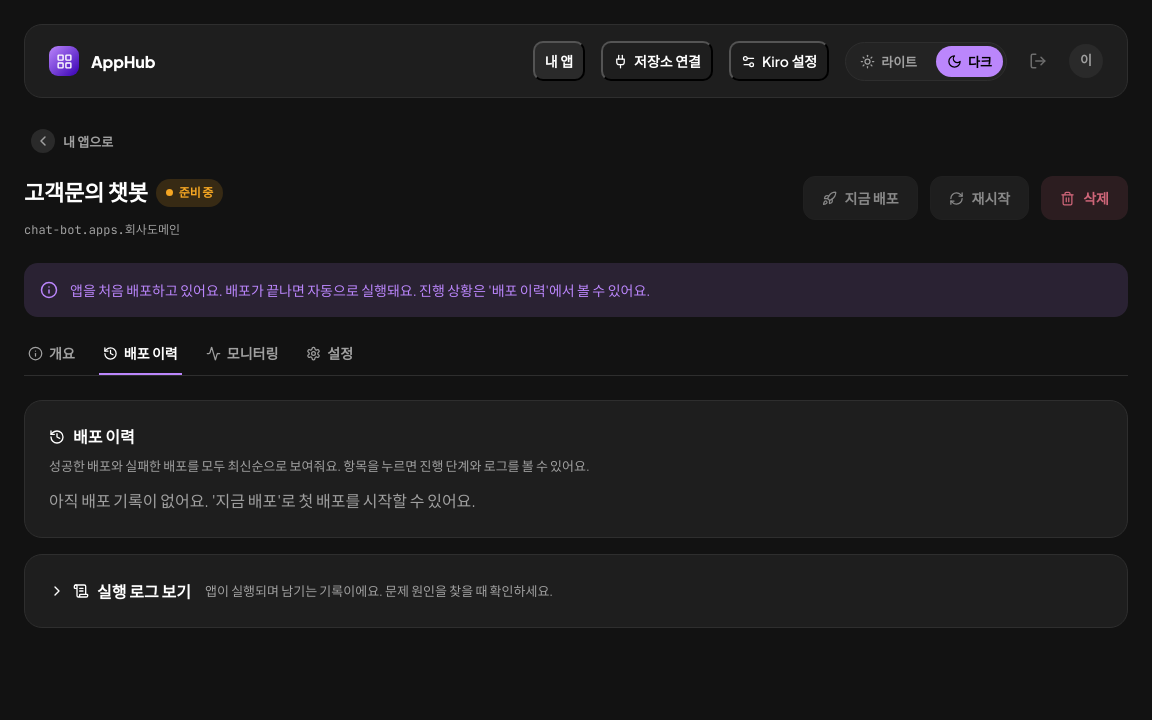
F2 — 앱 실행 로그 증분 새로고침 › 갱신 주기는 10초(5초 시점엔 요청 없음)
This screenshot has width=1152, height=720.
Step 1. Click the button "실행 로그 보기 앱이 실행되며 남기는 기록이에요. 문제 원인을 찾을 때 확인하세요." → [144, 591], box [49,579,1103,603]
Wait 10100 ms
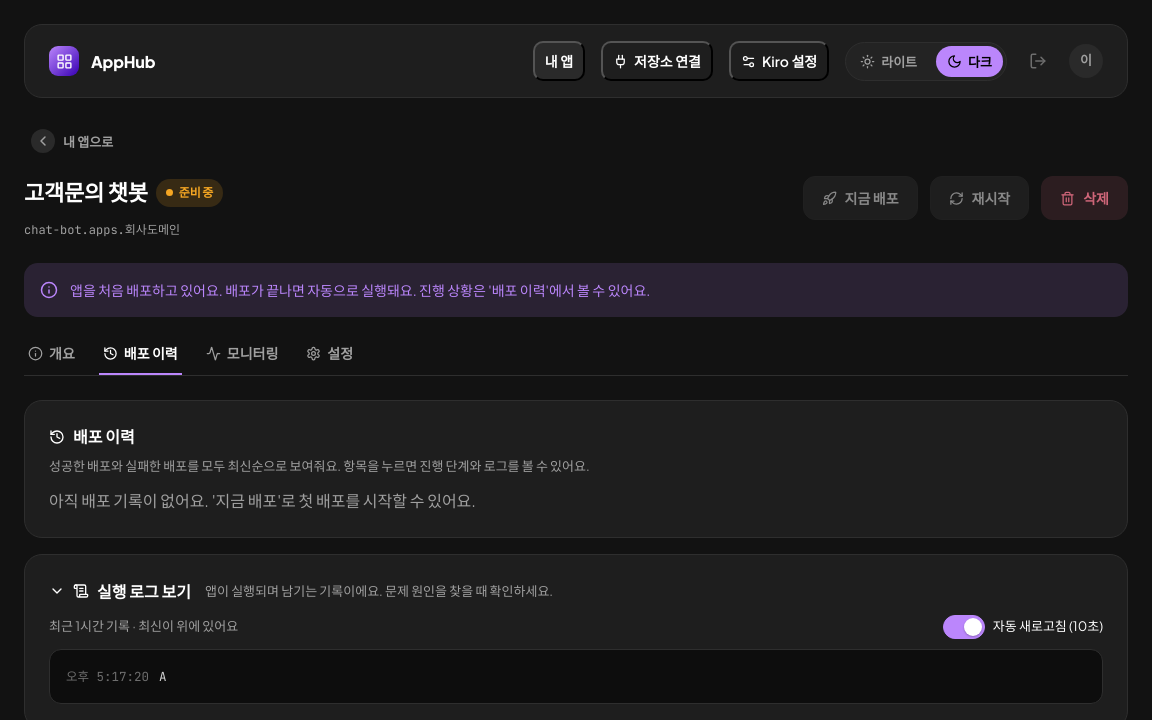
Expected: the text "자동 새로고침 (10초)" is shown, [943,615,1103,639]
